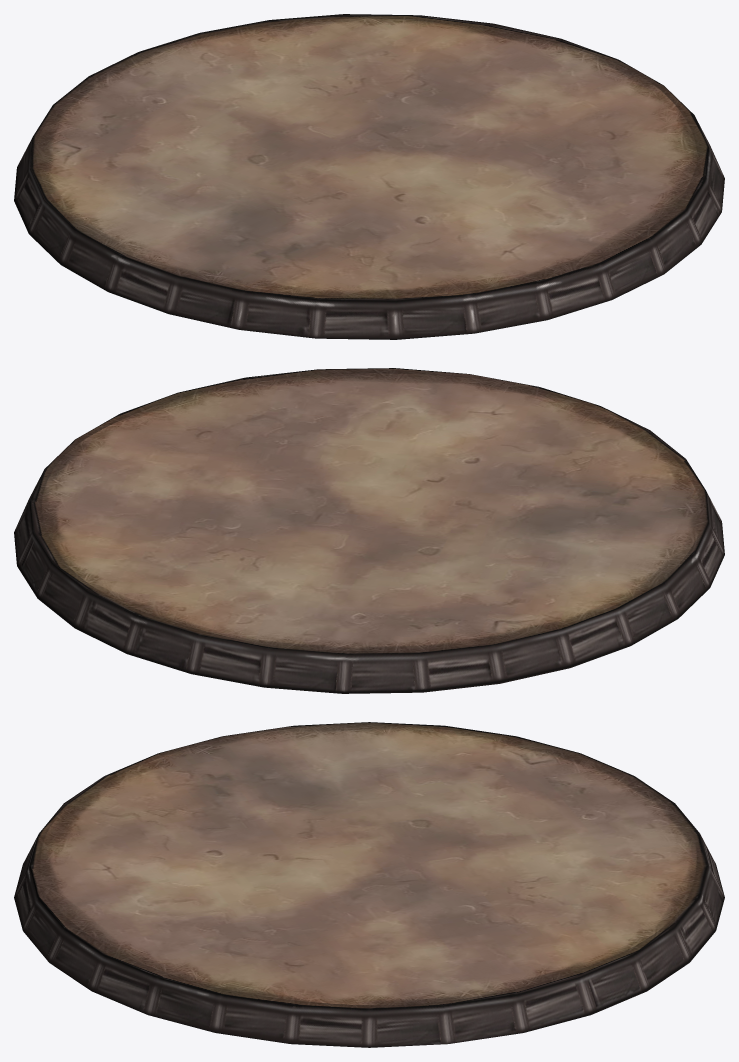
File: Ground.FBX
The picture shows the model from 3 angles, top to bottom: view 1: azimuth 30°, elevation 25°; view 2: azimuth 150°, elevation 25°; view 3: azimuth 270°, elevation 25°; orthographic projection.
Visible parts, largest first — view 1: Ground; view 2: Ground; view 3: Ground.
Part boxes in pixels (bbox=[...]): Ground: bbox=[14, 14, 724, 339]; Ground: bbox=[14, 368, 724, 693]; Ground: bbox=[14, 722, 724, 1047].
Size of the model in its own units: 200 by 10 by 200.
